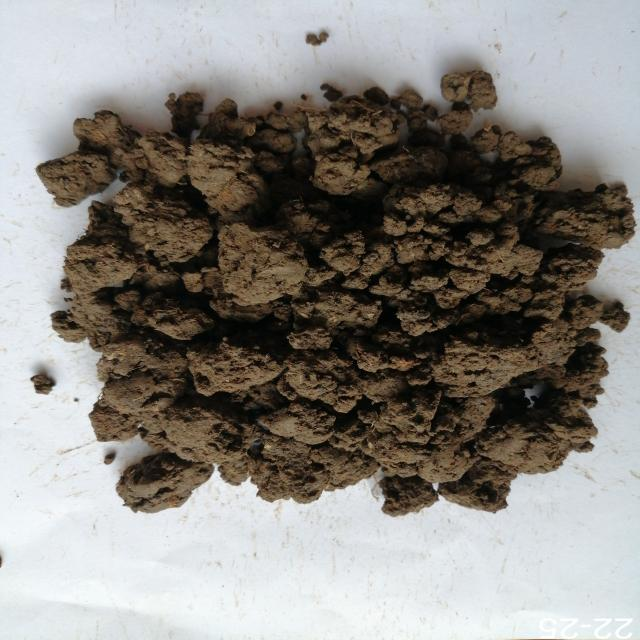soil: (133, 157, 547, 463)
